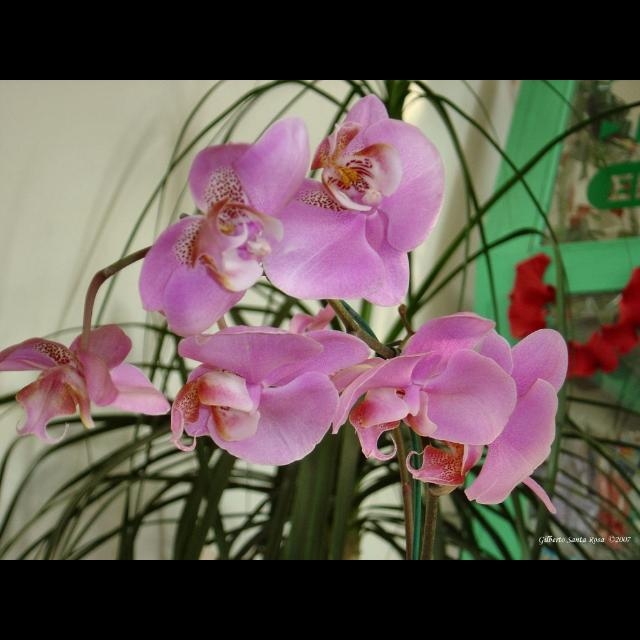Flower: (262, 95, 446, 307), (138, 115, 312, 338), (363, 312, 549, 500), (171, 324, 371, 466), (0, 327, 176, 443)
